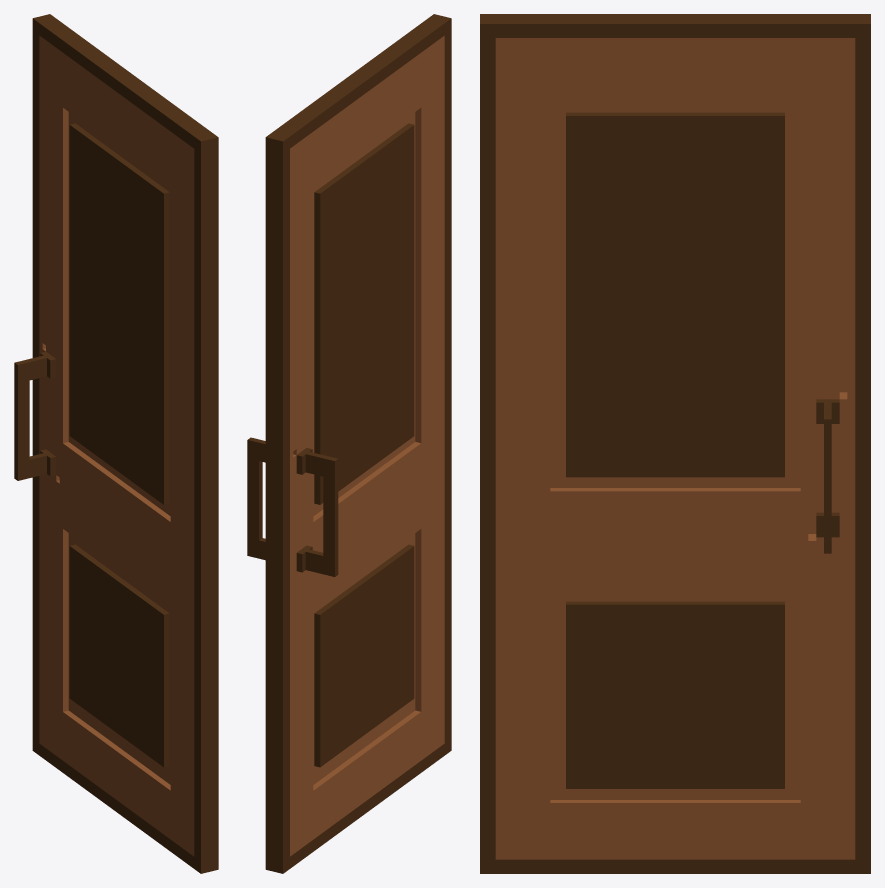
File: SchoolPack-30-double door.obj
3 views of the same model, side by side, from view 1: azimuth 30°, elevation 25°; view 2: azimuth 150°, elevation 25°; view 3: azimuth 270°, elevation 25° (orthographic). The views are drawn at different scales.
Parts seen in each view (by area): view 1: double door; view 2: double door; view 3: double door.
Boxes of the visible parts, box(x1,y1,x2,y2) form: double door: box(14, 14, 218, 873); double door: box(247, 14, 451, 873); double door: box(480, 14, 870, 873).
Bounding box in the file's own units: 1.5 × 12 × 5.
1 material, 1 textured.
